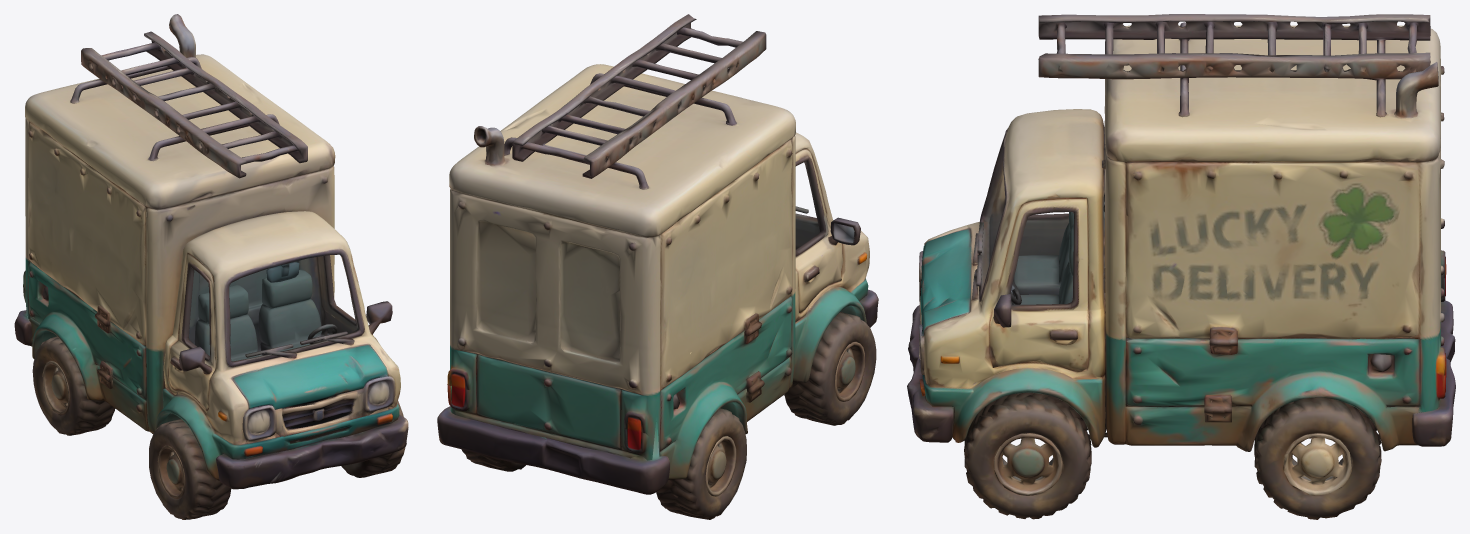
The model's file is parked_van.glb.
The picture shows the model from 3 angles, left to right: view 1: azimuth 30°, elevation 25°; view 2: azimuth 150°, elevation 25°; view 3: azimuth 270°, elevation 25°; orthographic projection. The views are drawn at different scales.
Visible parts, largest first — view 1: tripo_part_0, tripo_part_1, tripo_part_2, tripo_part_7, tripo_part_14, tripo_part_3, tripo_part_13, tripo_part_5, tripo_part_10, tripo_part_8, tripo_part_9, tripo_part_15 (+4 smaller); view 2: tripo_part_0, tripo_part_2, tripo_part_1, tripo_part_4, tripo_part_3, tripo_part_5, tripo_part_9, tripo_part_8, tripo_part_17, tripo_part_18, tripo_part_6; view 3: tripo_part_0, tripo_part_1, tripo_part_2, tripo_part_15, tripo_part_6, tripo_part_12, tripo_part_16, tripo_part_4, tripo_part_7, tripo_part_10, tripo_part_17, tripo_part_13.
Boxes of the visible parts, <box> form: tripo_part_0: <box>23,54,335,433</box>; tripo_part_1: <box>155,211,400,480</box>; tripo_part_2: <box>70,31,307,178</box>; tripo_part_7: <box>216,414,408,489</box>; tripo_part_14: <box>242,376,395,440</box>; tripo_part_3: <box>149,419,231,519</box>; tripo_part_13: <box>258,269,321,354</box>; tripo_part_5: <box>32,336,115,435</box>; tripo_part_10: <box>194,285,262,361</box>; tripo_part_8: <box>157,445,185,499</box>; tripo_part_9: <box>42,361,70,414</box>; tripo_part_15: <box>341,401,405,477</box>; tripo_part_0: <box>447,64,795,479</box>; tripo_part_2: <box>504,14,766,189</box>; tripo_part_1: <box>793,132,869,382</box>; tripo_part_4: <box>437,406,669,494</box>; tripo_part_3: <box>784,312,876,425</box>; tripo_part_5: <box>656,408,746,519</box>; tripo_part_9: <box>705,436,736,496</box>; tripo_part_8: <box>835,342,865,401</box>; tripo_part_17: <box>474,126,506,165</box>; tripo_part_18: <box>828,217,860,245</box>; tripo_part_6: <box>461,449,525,471</box>; tripo_part_0: <box>1102,25,1446,451</box>; tripo_part_1: <box>919,109,1107,447</box>; tripo_part_2: <box>1038,14,1430,117</box>; tripo_part_15: <box>964,392,1091,519</box>; tripo_part_6: <box>1254,397,1381,519</box>; tripo_part_12: <box>994,433,1061,495</box>; tripo_part_16: <box>1284,434,1351,495</box>; tripo_part_4: <box>1412,300,1455,446</box>; tripo_part_7: <box>907,305,954,442</box>; tripo_part_10: <box>1012,212,1073,295</box>; tripo_part_17: <box>1394,62,1438,118</box>; tripo_part_13: <box>1012,225,1073,304</box>.
Size of the model in its own units: 0.5604 by 0.8516 by 0.9806.
Materials: 1 (1 with a texture image).
